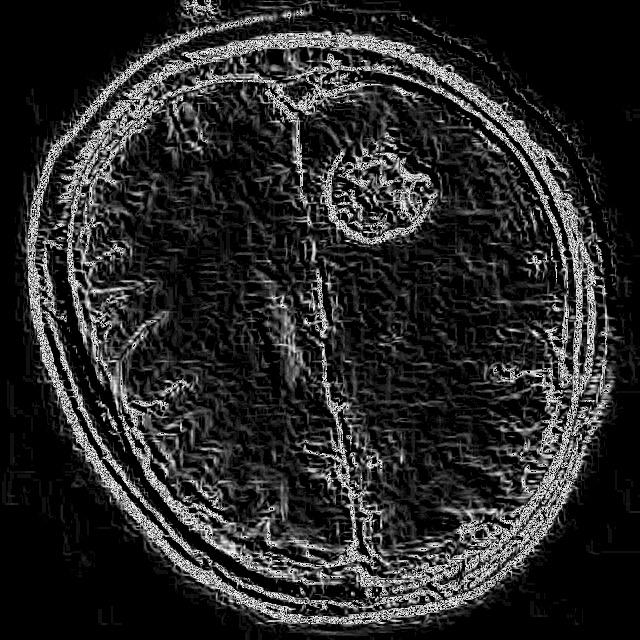Brain-Tumor: (318, 130, 446, 251)
